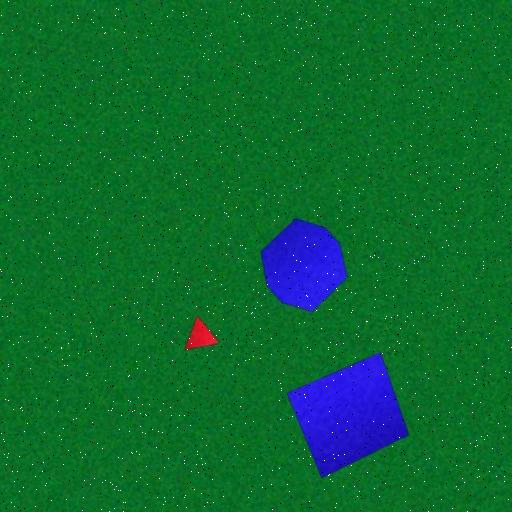BLUE_SQUARE: (286, 352, 410, 479)
